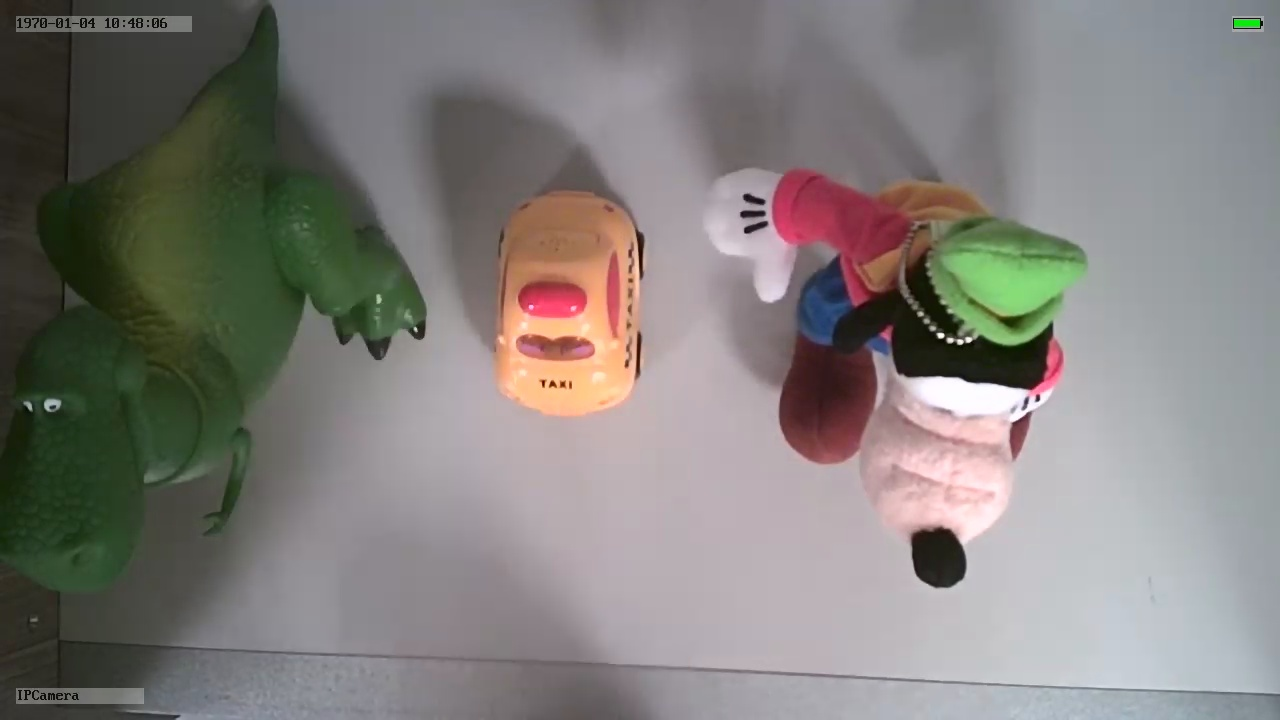car: (488, 181, 651, 419)
goofy: (698, 159, 1093, 597)
rex: (1, 105, 424, 599)
